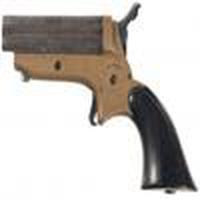gun: (1, 11, 200, 191)
